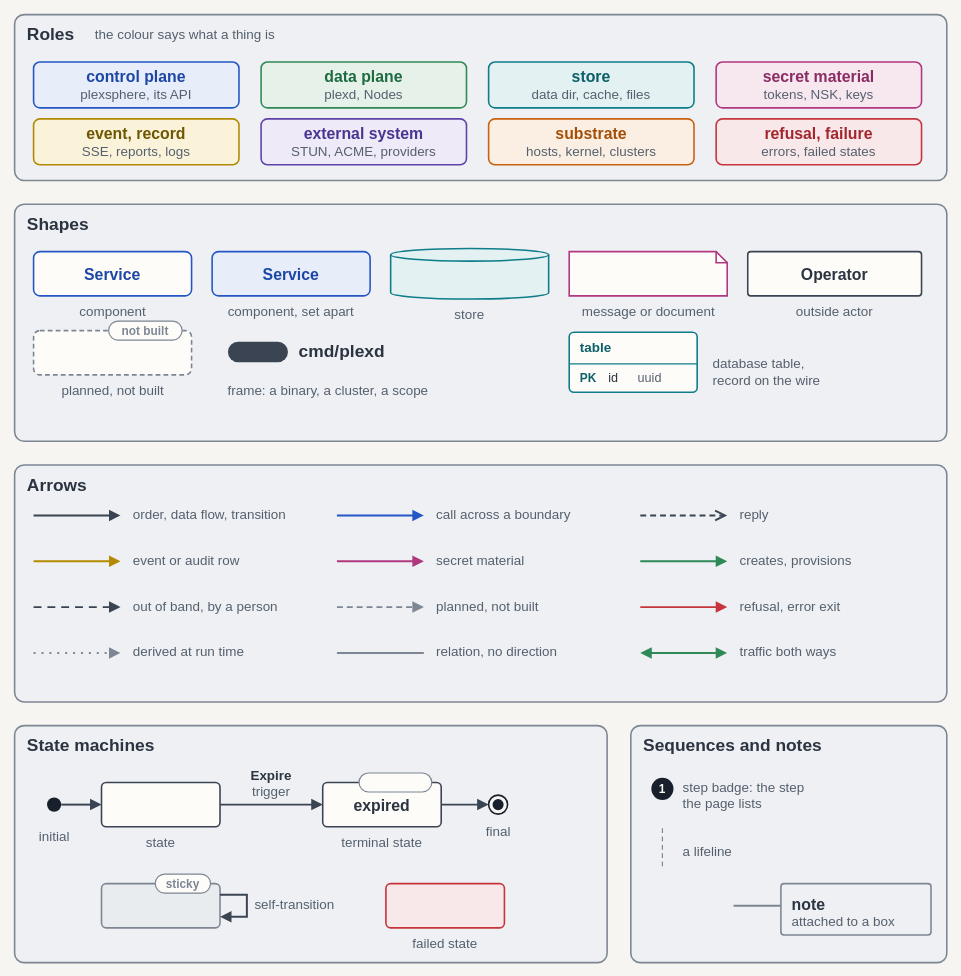
Image size: 961x976. Some labels were removed from this diagram. The shapes that lost their labels are listed below. From the top down, each one's box as (x1, y1, x2, y2) in pixels, then its label:
(389, 247, 549, 299): state cache
(568, 250, 728, 296): response
(32, 329, 192, 375): dispatcher
(228, 341, 288, 362): binary
(358, 772, 432, 792): terminal
(100, 781, 220, 827): active
(100, 882, 220, 928): Deleted
(385, 882, 505, 928): Failed
